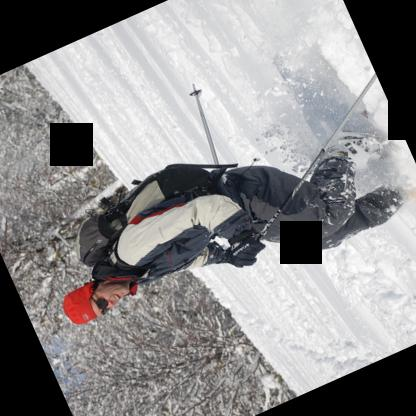backpack: (74, 163, 209, 265)
